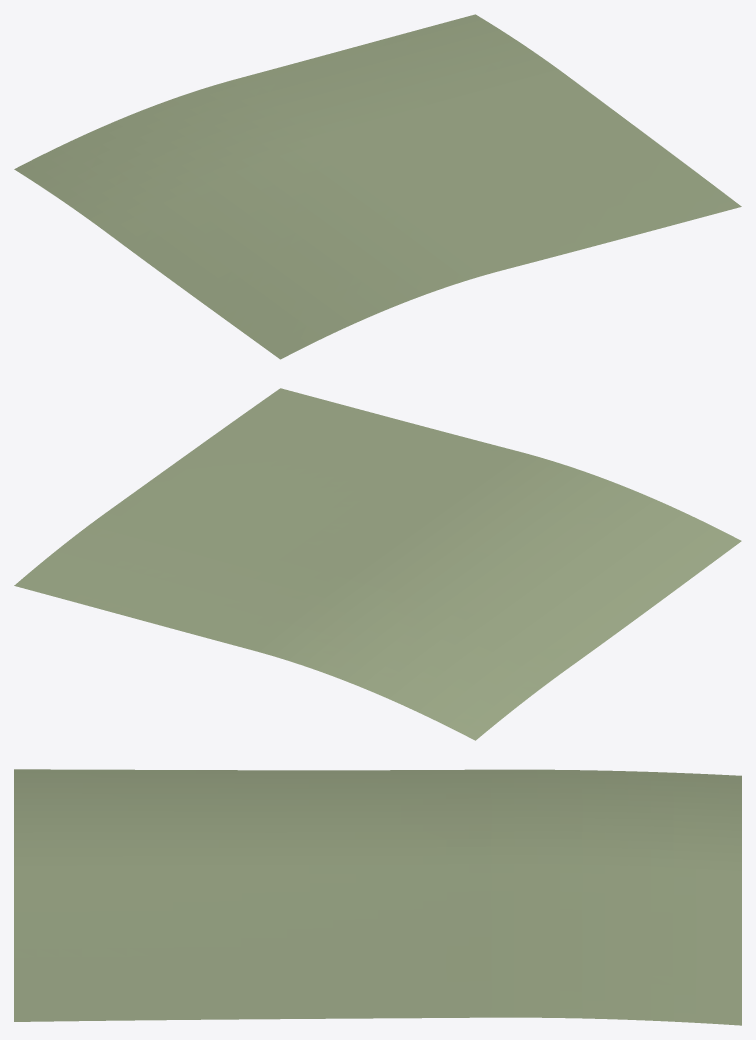
The model's file is expanse-26-7.glb.
3 views of the same model, one above another, from view 1: azimuth 30°, elevation 25°; view 2: azimuth 150°, elevation 25°; view 3: azimuth 270°, elevation 25° (orthographic). The views are drawn at different scales.
Visible parts, largest first — view 1: expanse-26-7; view 2: expanse-26-7; view 3: expanse-26-7.
Boxes of the visible parts, x1,y1,x2,y2 form: expanse-26-7: (14,14,741,359); expanse-26-7: (14,388,741,740); expanse-26-7: (14,769,741,1025).
Bounding box in the file's own units: 256 × 25.54 × 256.
